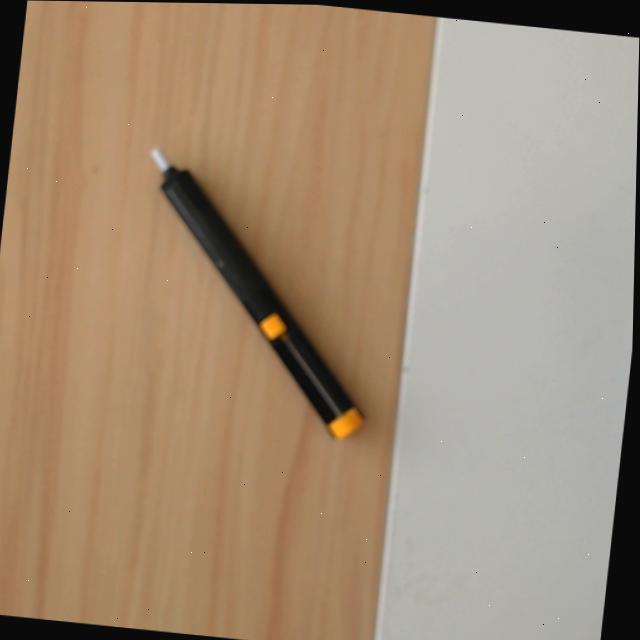Desoldering-Pump: (134, 140, 368, 445)
